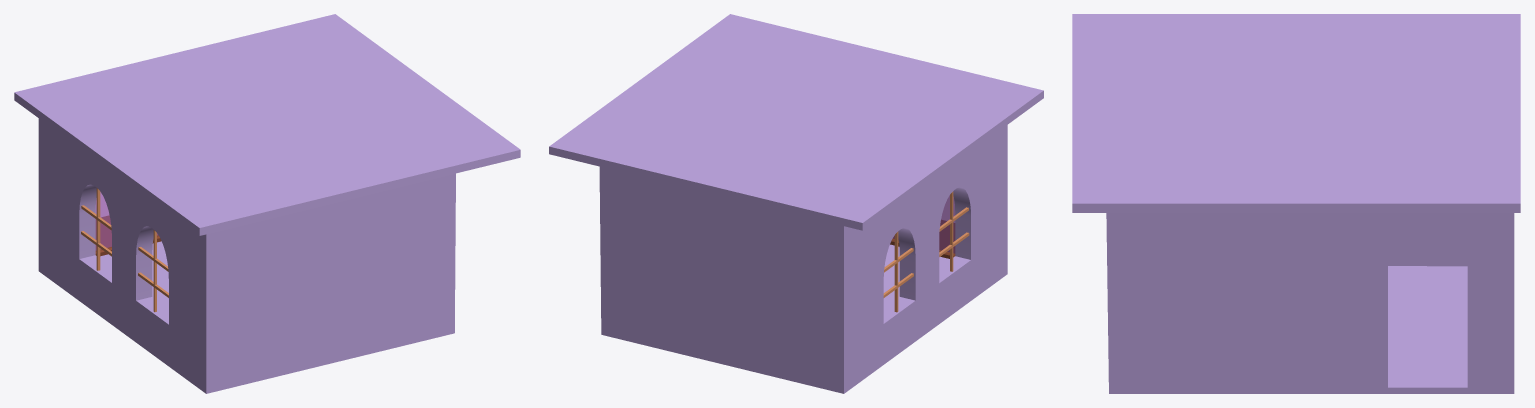
The model's file is room_01.fbx.
The picture shows the model from 3 angles, left to right: view 1: azimuth 30°, elevation 25°; view 2: azimuth 150°, elevation 25°; view 3: azimuth 270°, elevation 25°; orthographic projection. The views are drawn at different scales.
Parts seen in each view (by area): view 1: 立方體; view 2: 立方體; view 3: 立方體.
Part boxes in pixels (left/top/right/bottom): 立方體: left=14, top=14, right=520, bottom=393; 立方體: left=549, top=14, right=1043, bottom=393; 立方體: left=1072, top=14, right=1520, bottom=393.
Size of the model in its own units: 536 by 291 by 536.
